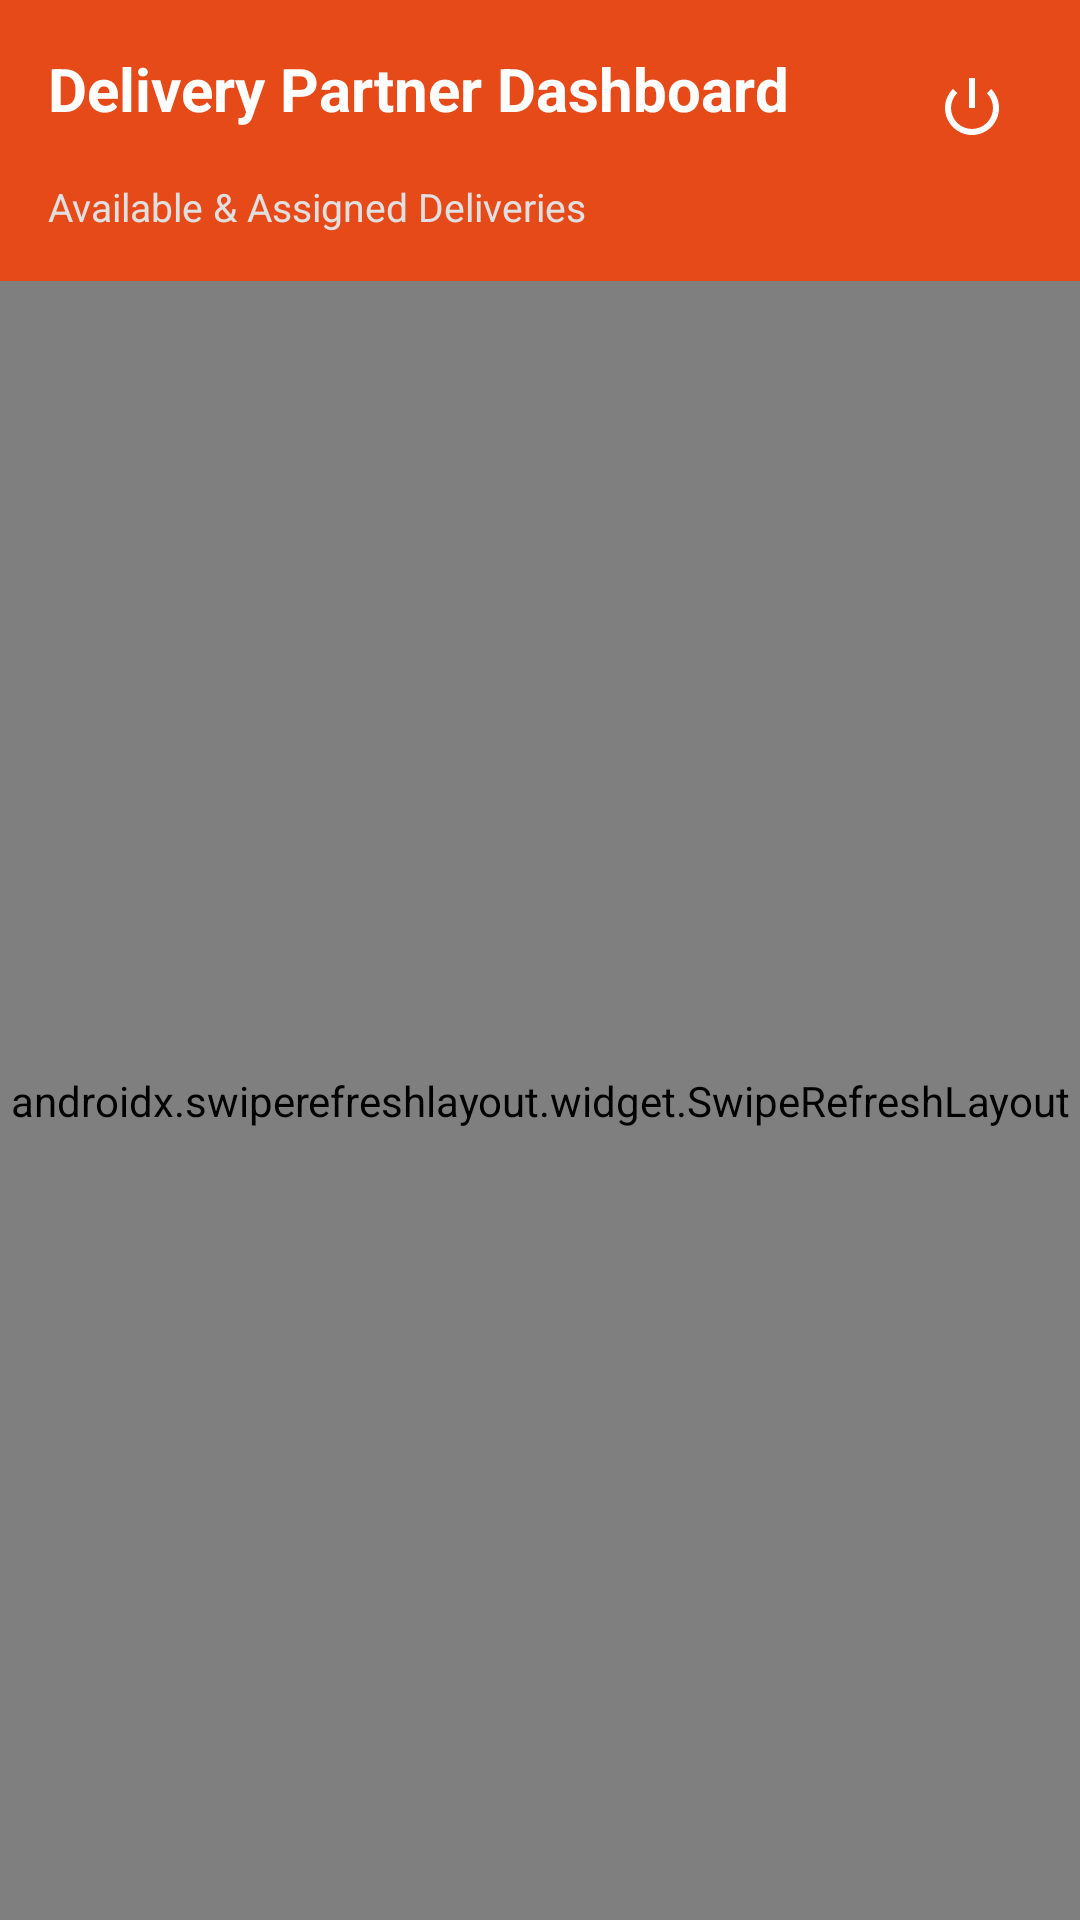

Where icons sit on this 1080x1920 app screen, as (x1, y1, x2, y2):
lock power off: (945, 78, 999, 135)
